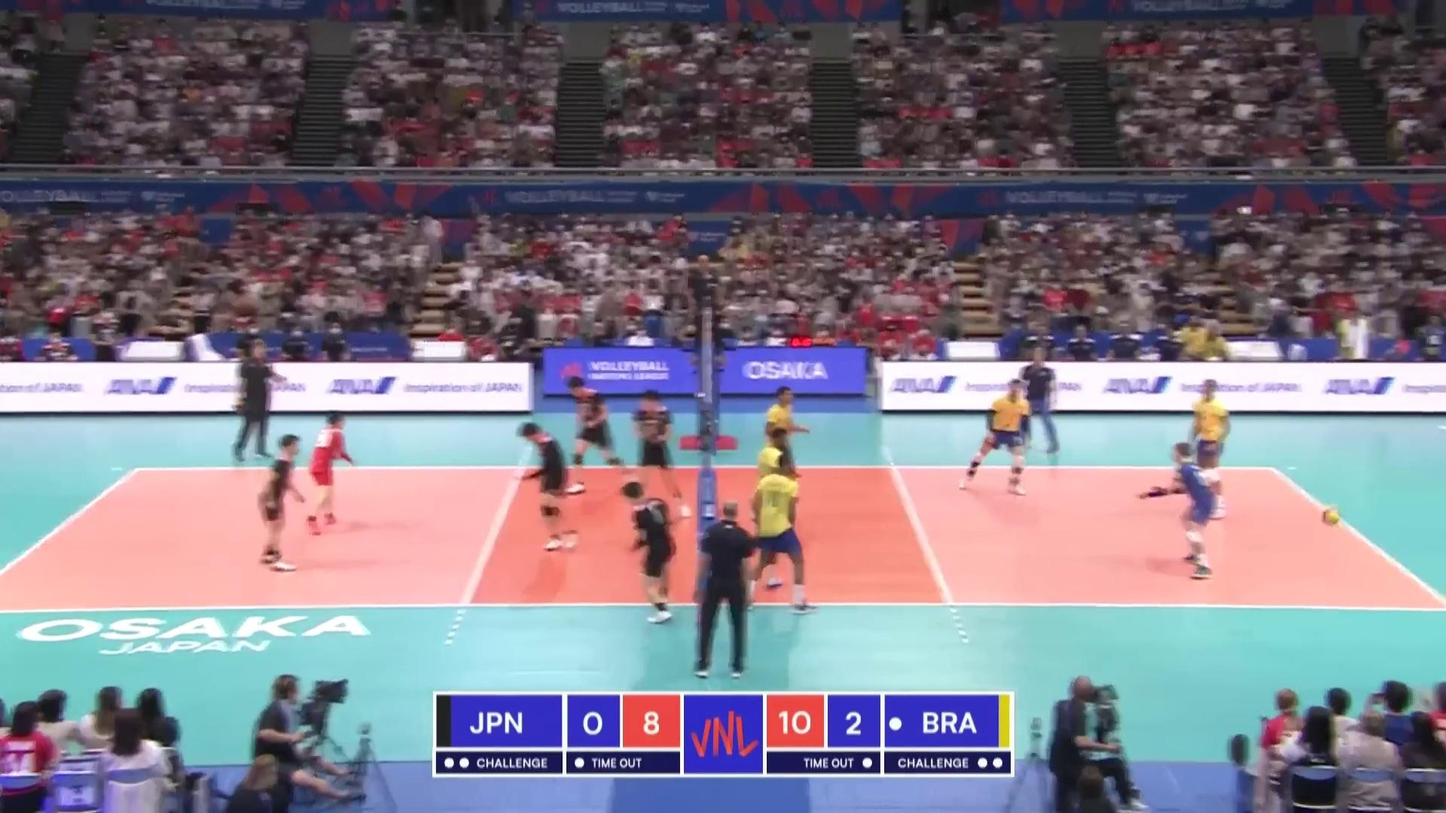player: (1149, 442, 1219, 581), (512, 422, 580, 555), (754, 455, 810, 614), (567, 376, 638, 492), (624, 481, 680, 626), (960, 382, 1030, 496), (632, 390, 689, 516), (253, 434, 303, 571), (756, 427, 795, 592), (306, 414, 352, 536), (1188, 377, 1228, 515), (765, 388, 802, 501)
refree: (695, 502, 756, 679), (690, 254, 725, 360)
